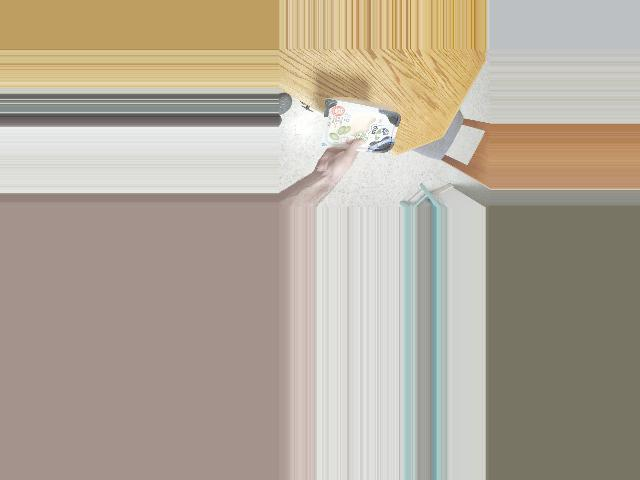cheese: (335, 98, 391, 160)
